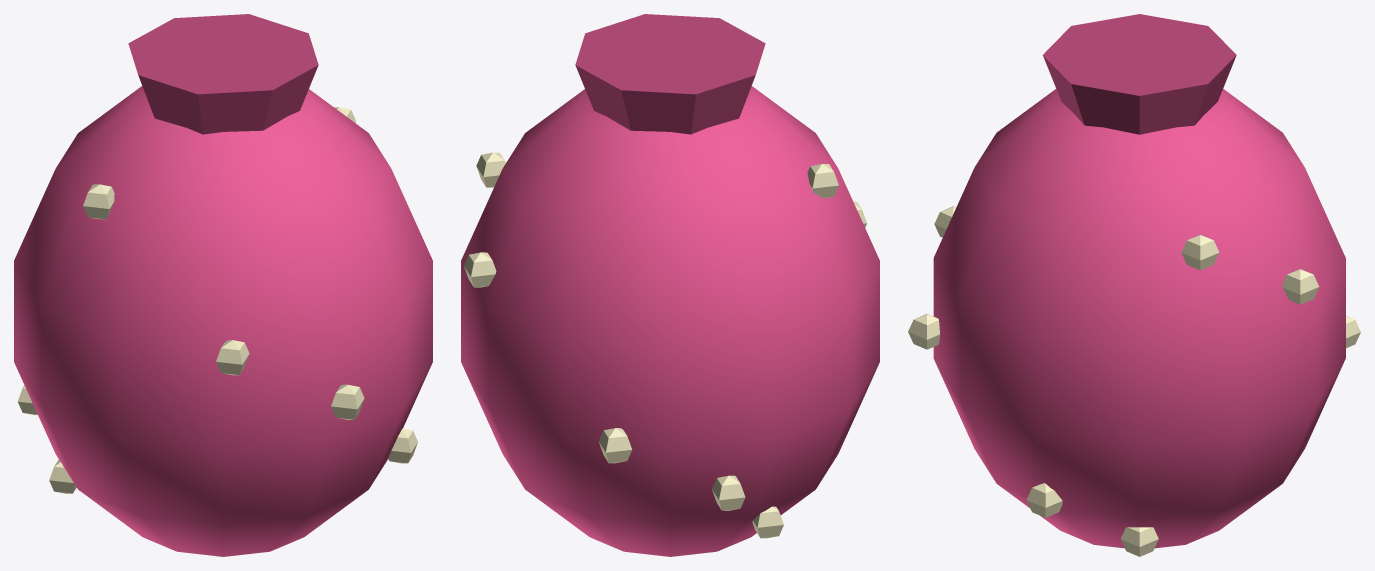
The model's file is Fruto_Cactus.fbx.
3 views of the same model, side by side, from view 1: azimuth 30°, elevation 25°; view 2: azimuth 150°, elevation 25°; view 3: azimuth 270°, elevation 25° (orthographic).
Parts seen in each view (by area): view 1: Produto_Cactus, Cabo_Cactus; view 2: Produto_Cactus, Cabo_Cactus; view 3: Produto_Cactus, Cabo_Cactus.
Boxes of the visible parts, left/top/right/bottom form: Produto_Cactus: left=14, top=86, right=432, bottom=556; Cabo_Cactus: left=17, top=14, right=417, bottom=493; Produto_Cactus: left=461, top=86, right=879, bottom=556; Cabo_Cactus: left=464, top=14, right=866, bottom=538; Produto_Cactus: left=933, top=89, right=1345, bottom=548; Cabo_Cactus: left=908, top=14, right=1360, bottom=556.
Size of the model in its own units: 0.5386 by 0.69 by 0.5918.
1 material, 1 textured.
